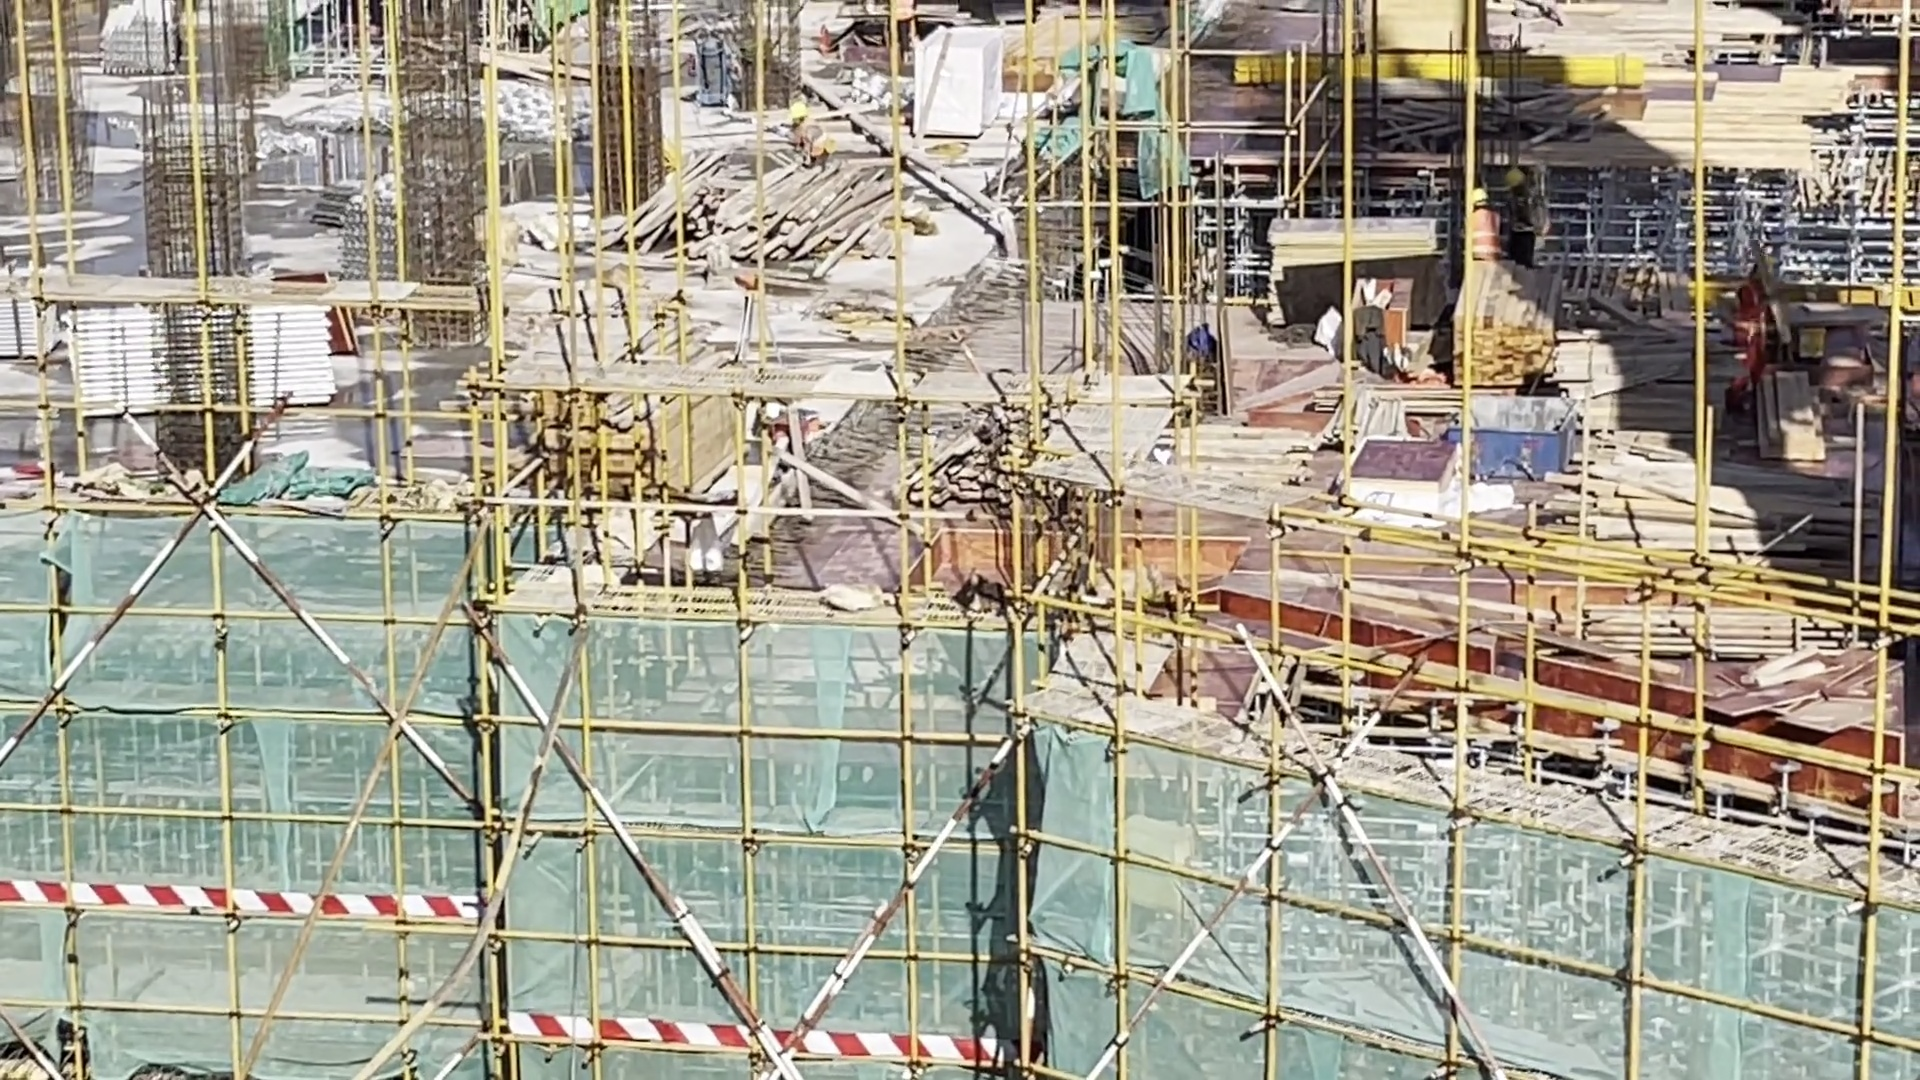board: (1725, 639, 1911, 765)
helmet: (1749, 255, 1779, 286), (1500, 162, 1519, 183)
hopper: (1455, 401, 1578, 472)
person: (1725, 258, 1776, 385), (1501, 164, 1553, 269), (747, 400, 821, 455), (1455, 189, 1505, 263)
scaffold: (62, 297, 334, 420)
vest: (1734, 296, 1773, 368)
wood: (526, 338, 719, 500), (1562, 604, 1806, 676), (724, 161, 870, 276), (1449, 271, 1550, 386)
